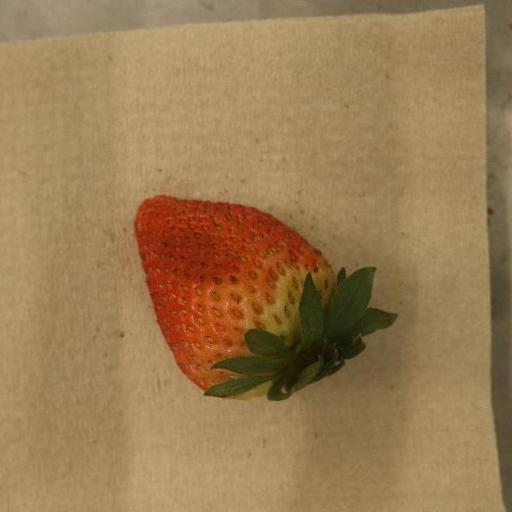Strawberry: (135, 195, 399, 402)
